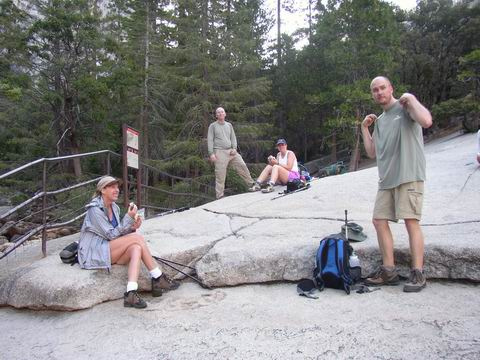person: (360, 75, 435, 294), (77, 176, 182, 310)
